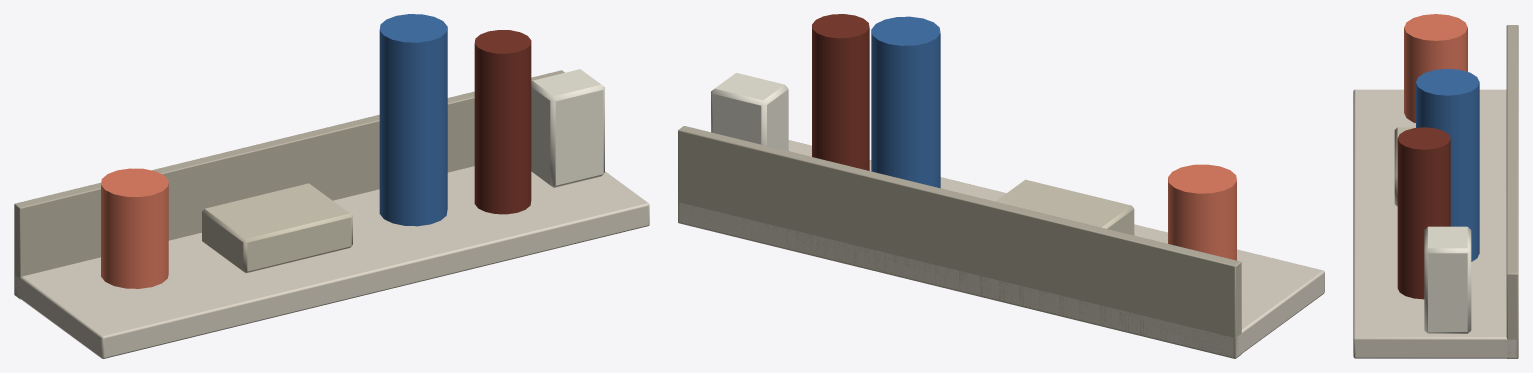
Rendered from KeXaPhong_WC.glb.
The picture shows the model from 3 angles, left to right: view 1: azimuth 30°, elevation 25°; view 2: azimuth 150°, elevation 25°; view 3: azimuth 270°, elevation 25°; orthographic projection. The views are drawn at different scales.
Visible parts, largest first — view 1: KeXaPhong_WC; view 2: KeXaPhong_WC; view 3: KeXaPhong_WC.
Part boxes in pixels (x1=…): KeXaPhong_WC: x1=14, y1=14, x2=649, y2=358; KeXaPhong_WC: x1=678, y1=14, x2=1324, y2=358; KeXaPhong_WC: x1=1353, y1=14, x2=1518, y2=358.
Bounding box in the file's own units: 0.5 × 0.18 × 0.14.
